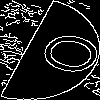O: (24, 25, 100, 79)
